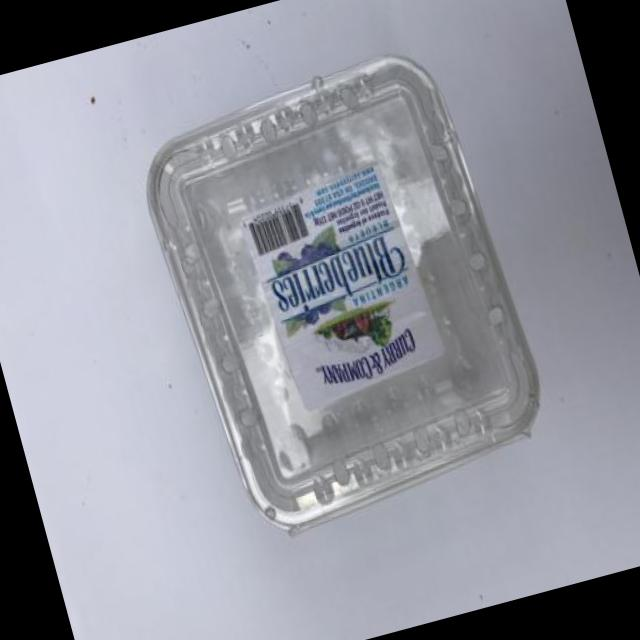Clamshell: (115, 22, 570, 562)
Label: (222, 148, 452, 419)
